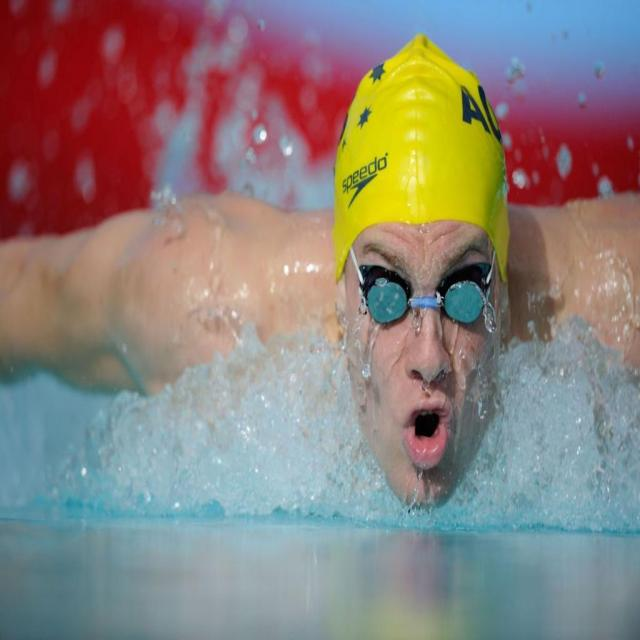Face: (334, 182, 517, 536)
